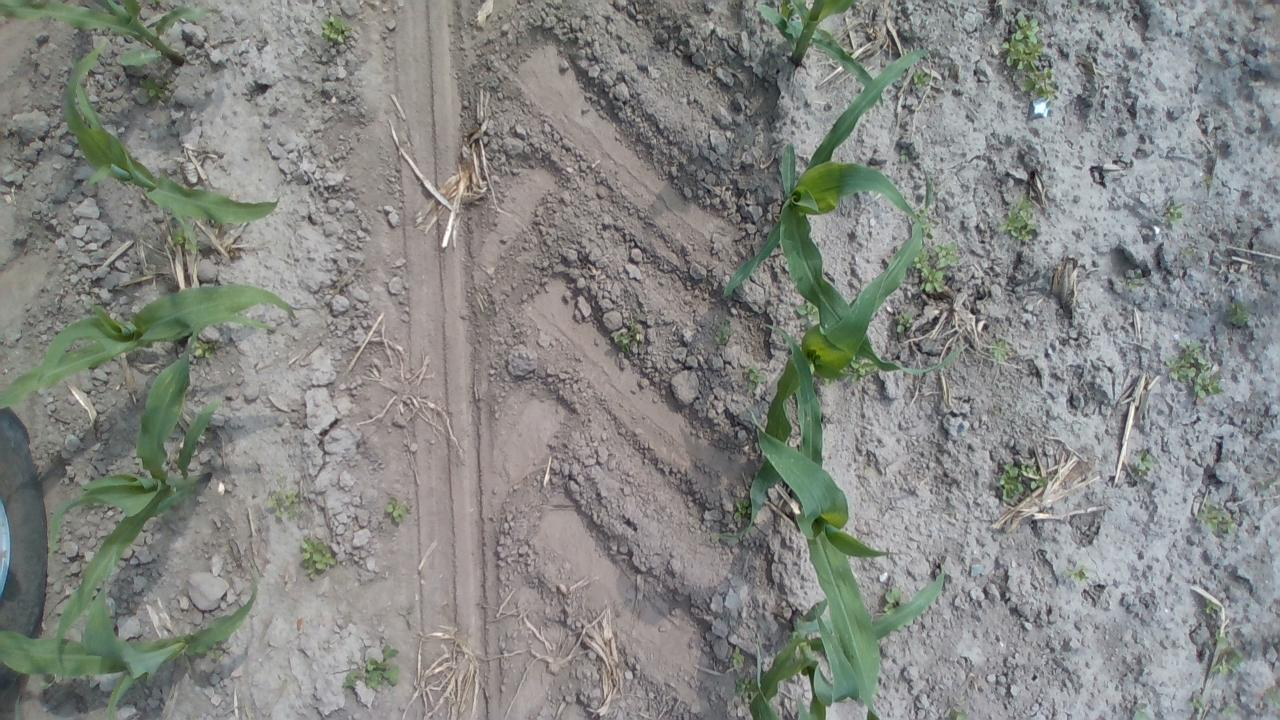Maize: (708, 161, 925, 548), (48, 314, 272, 669), (720, 48, 960, 377), (741, 403, 903, 720), (59, 40, 284, 246), (0, 557, 260, 720), (0, 283, 298, 412), (748, 558, 946, 720), (751, 0, 890, 108), (0, 0, 211, 68)
Weeds: (1000, 15, 1057, 102), (1165, 339, 1224, 399), (342, 642, 401, 690), (911, 241, 960, 296), (990, 460, 1046, 504), (996, 194, 1038, 241), (262, 470, 300, 520), (300, 538, 336, 582), (1210, 628, 1244, 674), (1198, 501, 1238, 531), (840, 357, 880, 383), (320, 14, 352, 45), (614, 318, 642, 352), (734, 676, 760, 704), (174, 229, 200, 256), (384, 497, 410, 523), (796, 298, 820, 326), (1133, 448, 1153, 478), (1226, 300, 1249, 326), (713, 319, 734, 346), (882, 586, 903, 613), (744, 366, 765, 391), (192, 340, 218, 360), (144, 78, 170, 98), (734, 498, 753, 523), (1064, 565, 1090, 583), (896, 311, 914, 335), (991, 338, 1009, 360), (728, 645, 744, 669), (1167, 202, 1184, 224), (912, 68, 928, 88), (1127, 270, 1144, 288), (1202, 597, 1218, 614), (949, 706, 968, 720), (1267, 688, 1280, 708), (1188, 696, 1206, 710), (1130, 709, 1151, 720), (206, 646, 224, 658), (922, 222, 934, 240), (913, 206, 926, 219), (1182, 246, 1196, 256), (1222, 706, 1234, 717), (900, 148, 909, 161), (1204, 174, 1214, 185), (198, 434, 208, 444), (148, 0, 160, 7), (1070, 0, 1078, 7)
